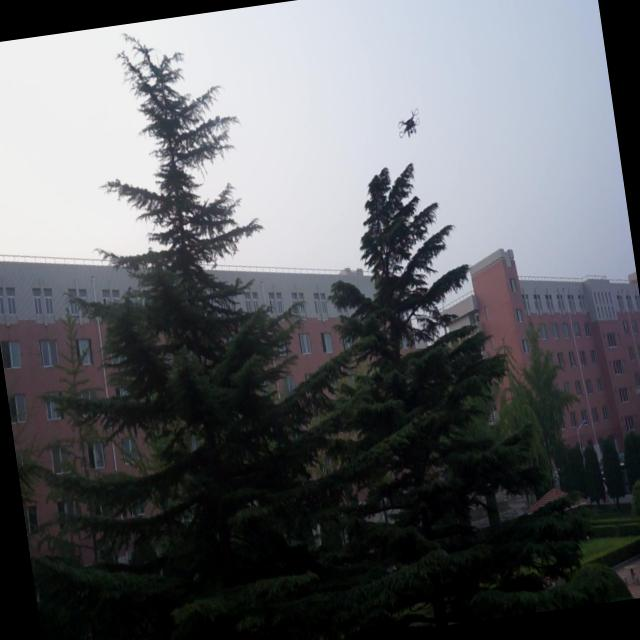drone: (392, 102, 426, 148)
